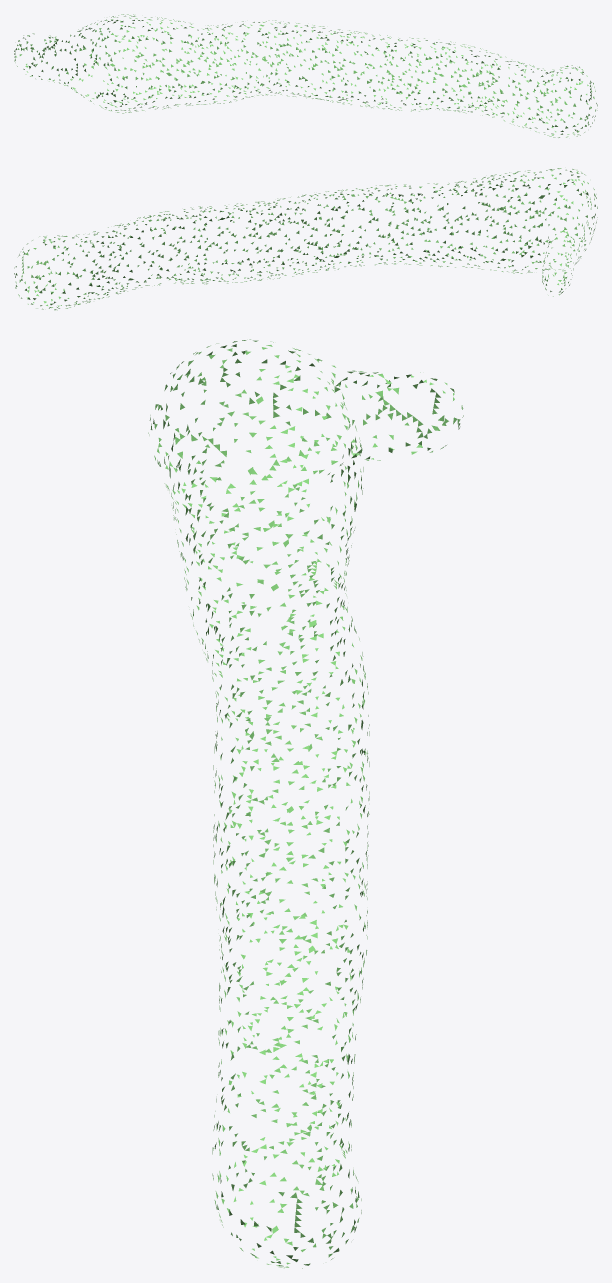
File: morph_016.glb
The picture shows the model from 3 angles, top to bottom: view 1: azimuth 30°, elevation 25°; view 2: azimuth 150°, elevation 25°; view 3: azimuth 270°, elevation 25°; orthographic projection. The views are drawn at different scales.
Bounding box in the file's own units: 126 × 51.87 × 31.85.
